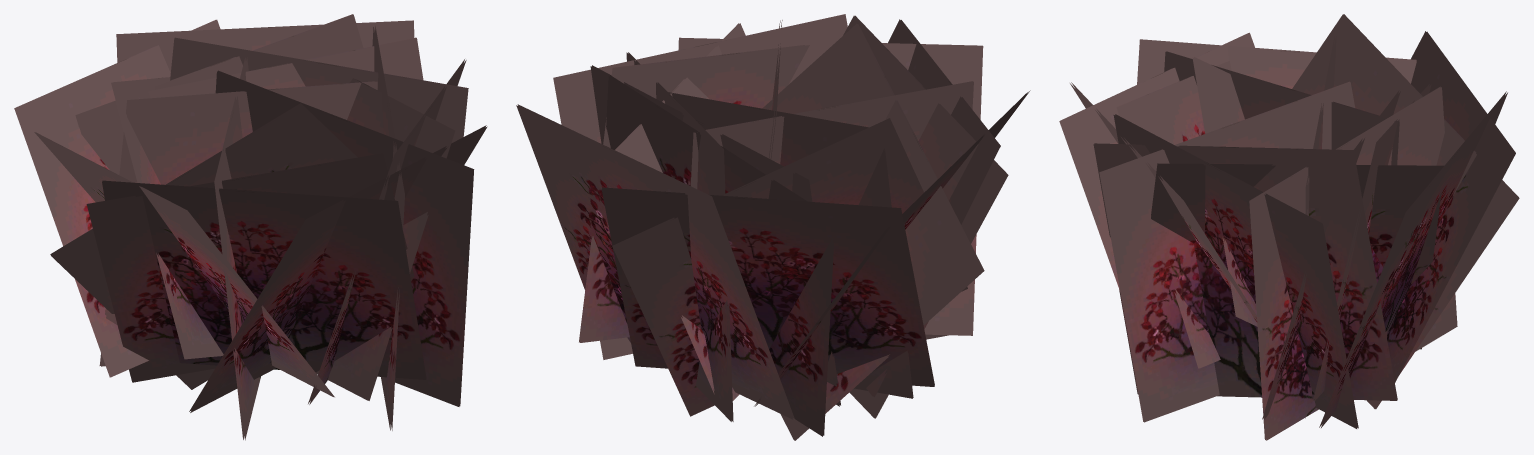
The model's file is guanmu_012.FBX.
The picture shows the model from 3 angles, left to right: view 1: azimuth 30°, elevation 25°; view 2: azimuth 150°, elevation 25°; view 3: azimuth 270°, elevation 25°; orthographic projection. The views are drawn at different scales.
Parts seen in each view (by area): view 1: guanmu_012_01; view 2: guanmu_012_01; view 3: guanmu_012_01.
Boxes of the visible parts, bbox=[...] form: guanmu_012_01: bbox=[14, 14, 487, 440]; guanmu_012_01: bbox=[516, 14, 1030, 440]; guanmu_012_01: bbox=[1059, 14, 1519, 440].
Size of the model in its own units: 2.42 by 1.89 by 2.4.
